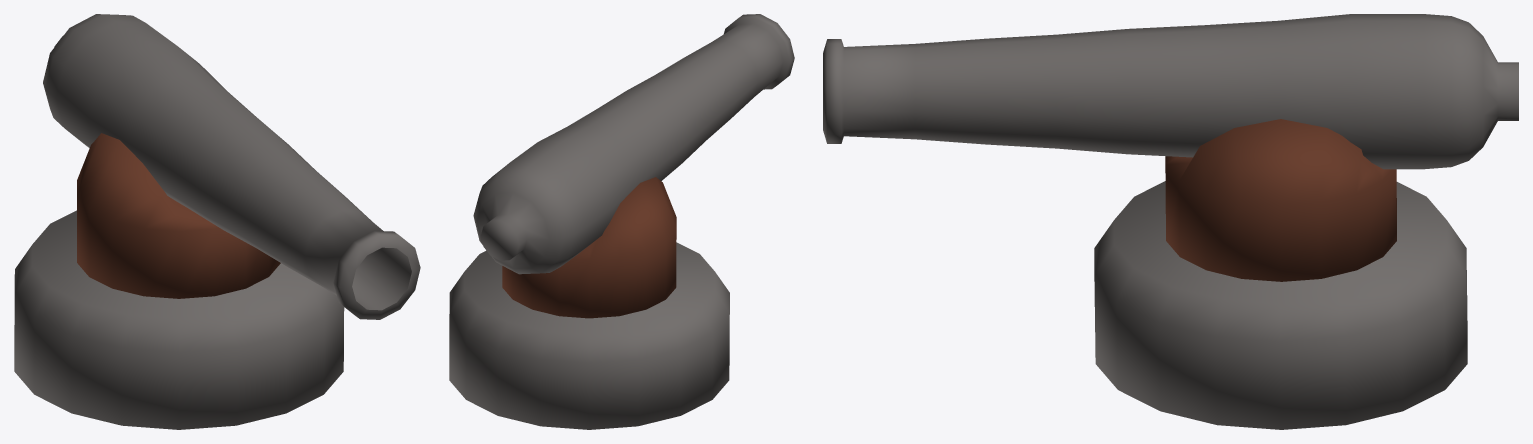
Rendered from cannon.FBX.
The picture shows the model from 3 angles, left to right: view 1: azimuth 30°, elevation 25°; view 2: azimuth 150°, elevation 25°; view 3: azimuth 270°, elevation 25°; orthographic projection. The views are drawn at different scales.
Parts seen in each view (by area): view 1: Cannon; view 2: Cannon; view 3: Cannon.
Part boxes in pixels (x1,y1,x2,y2): Cannon: (14, 14, 420, 429); Cannon: (449, 14, 794, 429); Cannon: (823, 14, 1518, 429).
Size of the model in its own units: 3.88 by 3.73 by 7.14.
2 materials, 2 textured.
